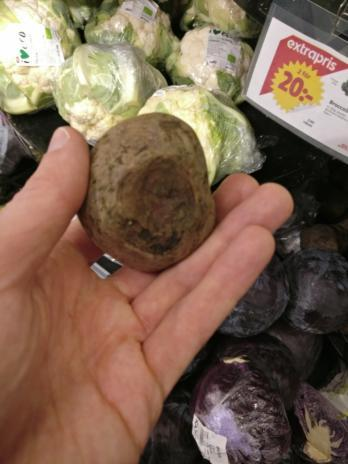beetroot: (75, 111, 217, 268)
